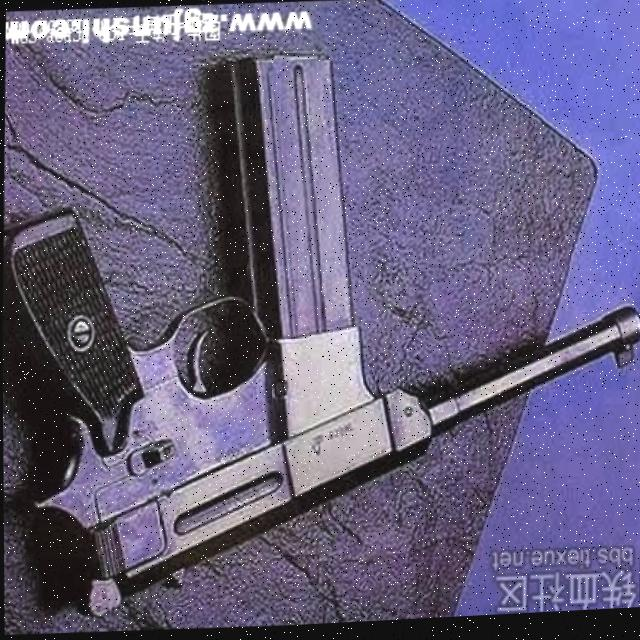pistol: (0, 29, 640, 640)
